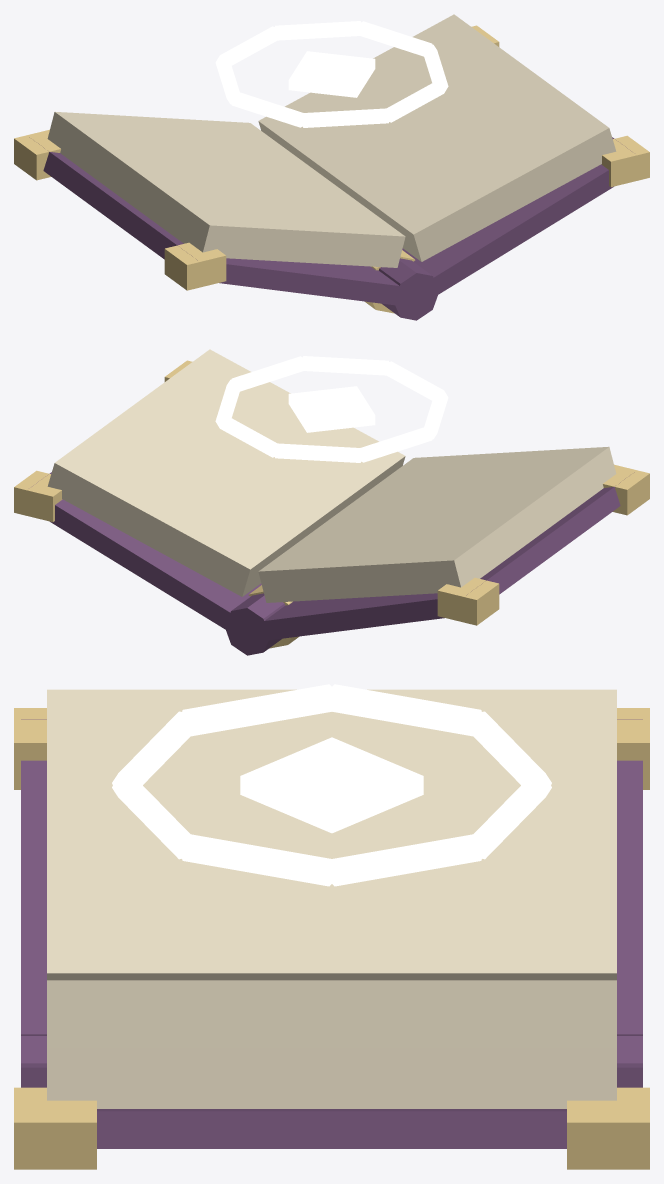
File: Warlock_Grimoire.fbx
3 renders of one model, top to bottom at view 1: azimuth 30°, elevation 25°; view 2: azimuth 150°, elevation 25°; view 3: azimuth 270°, elevation 25°, orthographic. The views are drawn at different scales.
Parts seen in each view (by area): view 1: WarlockGrimoire_Pages, WarlockGrimoire_Cover, WarlockGrimoire_RuneSigil, WarlockGrimoire_Clasps; view 2: WarlockGrimoire_Pages, WarlockGrimoire_Cover, WarlockGrimoire_RuneSigil, WarlockGrimoire_Clasps; view 3: WarlockGrimoire_Pages, WarlockGrimoire_RuneSigil, WarlockGrimoire_Cover, WarlockGrimoire_Clasps.
Boxes of the visible parts, bbox=[...] form: WarlockGrimoire_Pages: bbox=[47, 14, 616, 267]; WarlockGrimoire_Cover: bbox=[29, 137, 631, 320]; WarlockGrimoire_RuneSigil: bbox=[215, 21, 448, 127]; WarlockGrimoire_Clasps: bbox=[14, 25, 649, 313]; WarlockGrimoire_Pages: bbox=[47, 349, 616, 602]; WarlockGrimoire_Cover: bbox=[32, 472, 634, 655]; WarlockGrimoire_RuneSigil: bbox=[215, 356, 448, 462]; WarlockGrimoire_Clasps: bbox=[14, 360, 649, 648]; WarlockGrimoire_Pages: bbox=[47, 689, 616, 1108]; WarlockGrimoire_RuneSigil: bbox=[112, 684, 551, 886]; WarlockGrimoire_Cover: bbox=[21, 719, 642, 1148]; WarlockGrimoire_Clasps: bbox=[14, 708, 649, 1169].
Size of the model in its own units: 0.568 by 0.2329 by 0.368.
